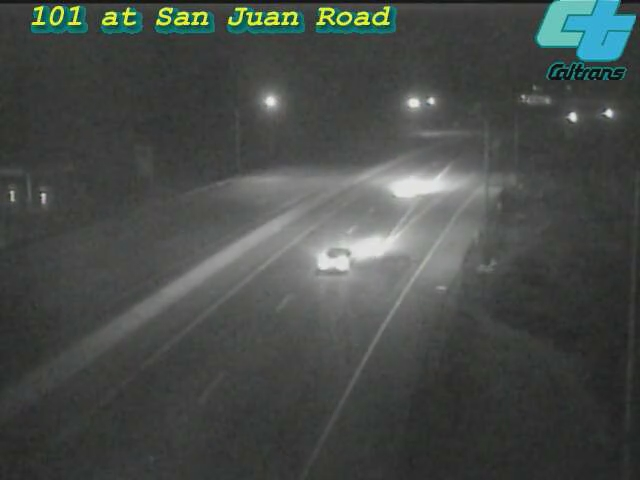vehicle: (368, 147, 448, 227), (295, 221, 375, 301), (549, 92, 599, 142), (584, 88, 634, 138)
